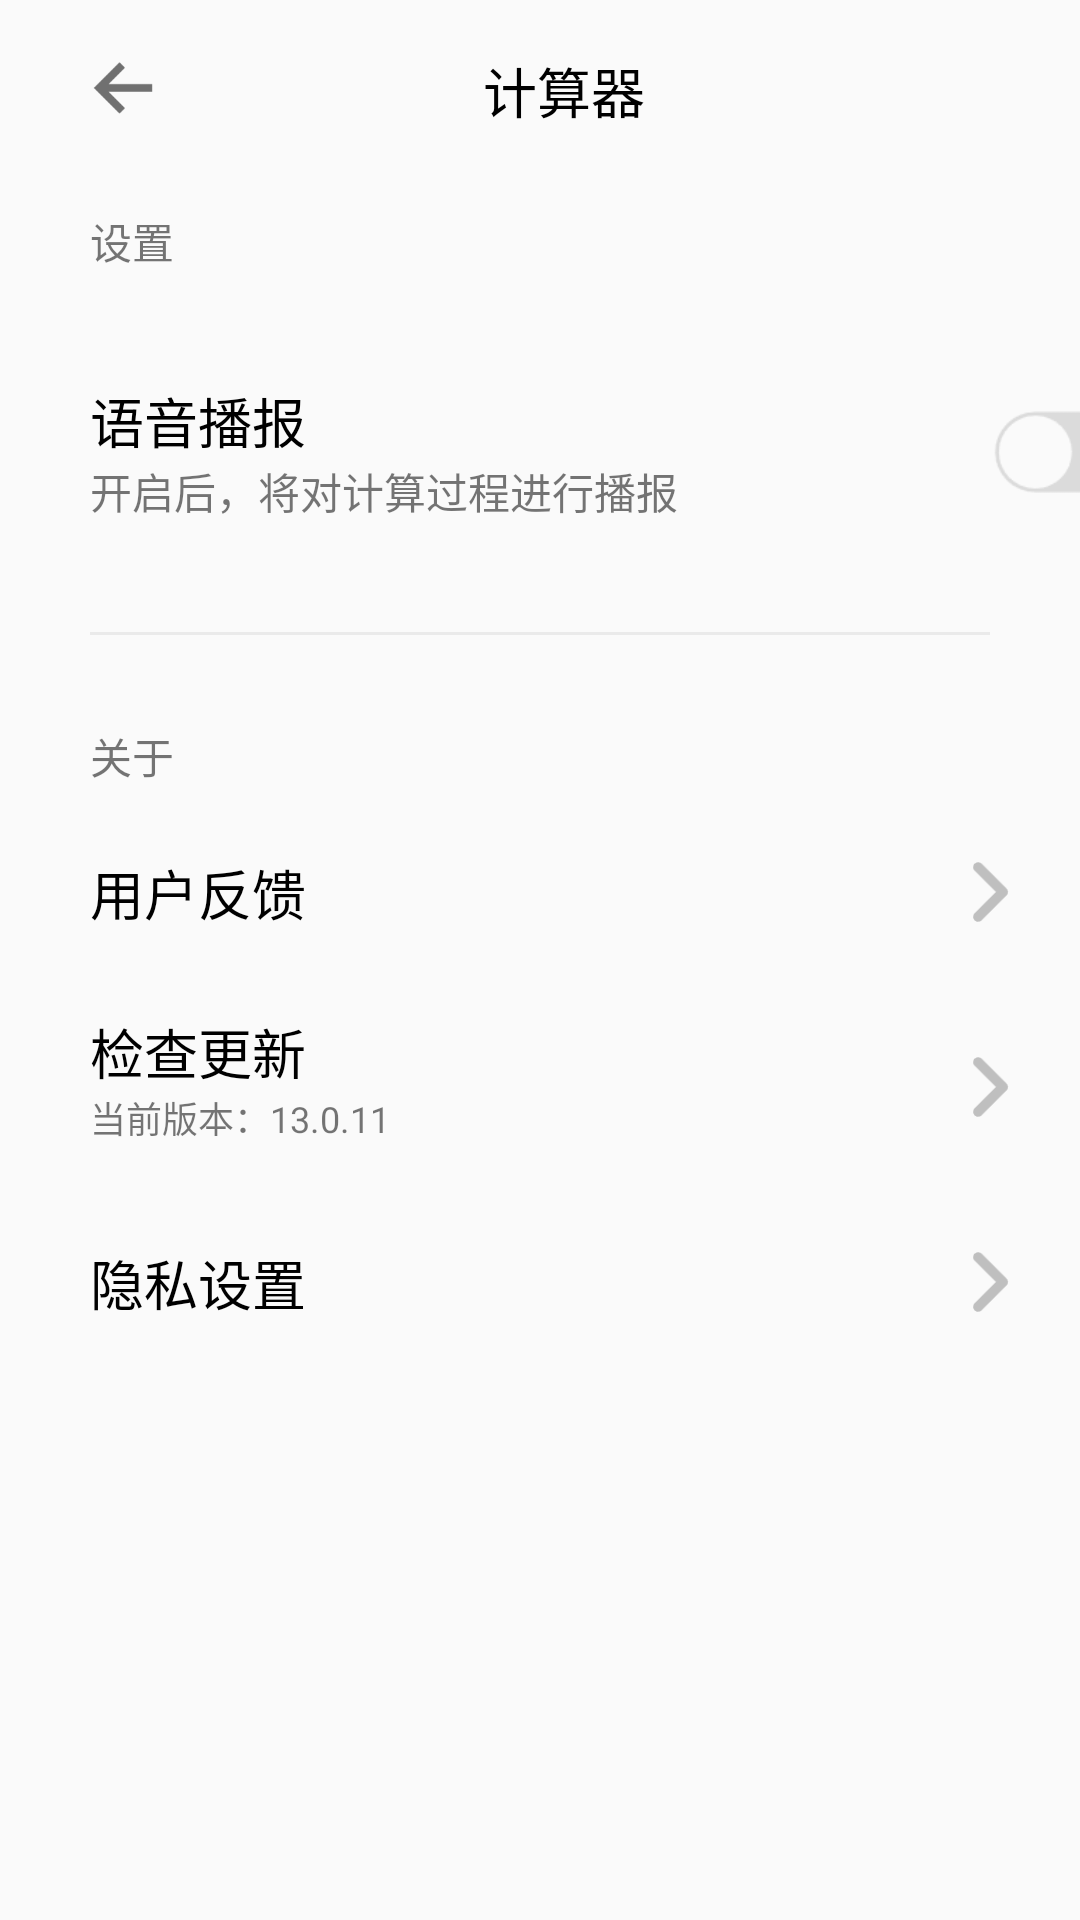

Icons on this 1080px×1920px Android screen, each with the point to tap as point (x, y):
return: point (123, 88)
right arrow: point (990, 892), point (990, 1087), point (990, 1282)
